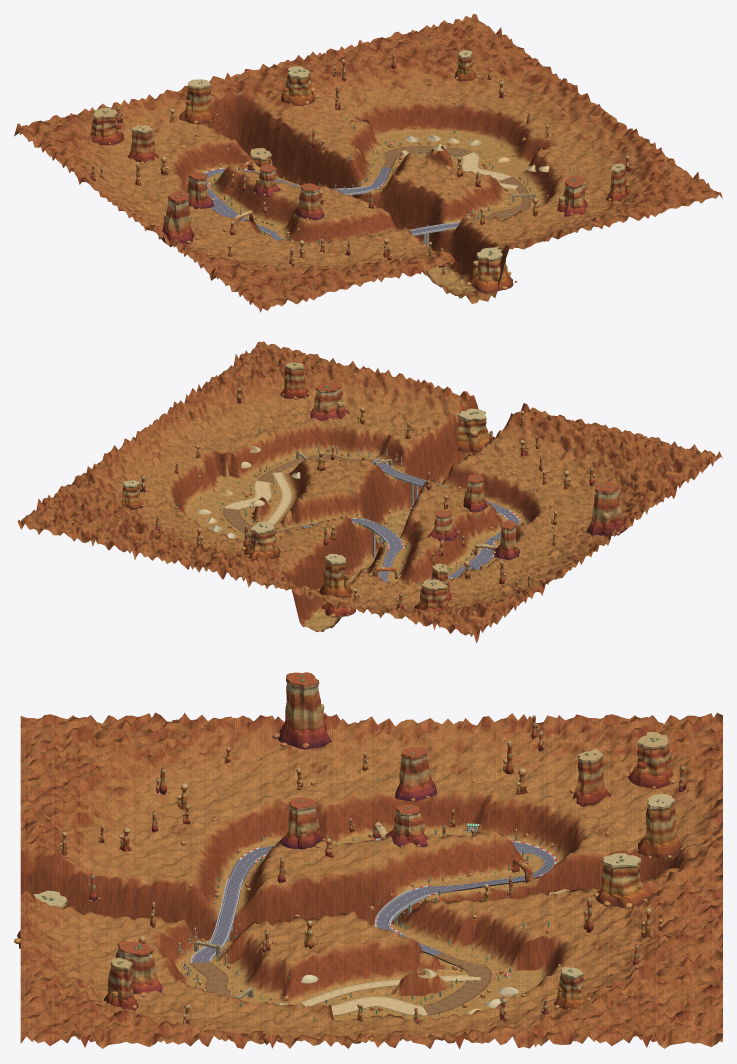
File: canion-solar.glb
3 renders of one model, top to bottom at view 1: azimuth 30°, elevation 25°; view 2: azimuth 150°, elevation 25°; view 3: azimuth 270°, elevation 25°, orthographic. The views are drawn at different scales.
Parts seen in each view (by area): view 1: terrain10, terrain2, terrain4, terrain3, terrain8, terrain9, terrain16, terrain24, terrain1, terrain21, sec11_props, terrain0 (+26 smaller); view 2: terrain22, terrain27, terrain25, terrain16, terrain24, terrain26, terrain15, terrain21, terrain28, terrain4, terrain19, terrain20 (+28 smaller); view 3: terrain6, terrain18, terrain12, terrain7, terrain15, terrain24, terrain25, terrain9, terrain26, terrain19, terrain3, terrain14 (+38 smaller).
Boxes of the visible parts, <box> form: terrain10: <box>405,59,538,149</box>; terrain2: <box>185,64,318,164</box>; terrain4: <box>358,23,489,94</box>; terrain3: <box>272,44,404,114</box>; terrain8: <box>244,114,367,188</box>; terrain9: <box>319,94,446,169</box>; terrain16: <box>460,108,588,183</box>; terrain24: <box>211,263,345,312</box>; terrain1: <box>99,86,226,156</box>; terrain21: <box>418,173,552,230</box>; sec11_props: <box>90,79,272,181</box>; terrain0: <box>14,106,135,167</box>; terrain22: <box>198,392,331,476</box>; terrain27: <box>332,370,466,447</box>; terrain25: <box>503,414,636,483</box>; terrain16: <box>149,436,276,512</box>; terrain24: <box>594,433,722,498</box>; terrain26: <box>417,391,551,484</box>; terrain15: <box>239,463,367,527</box>; terrain21: <box>284,423,417,499</box>; terrain28: <box>247,350,379,423</box>; terrain4: <box>50,494,183,559</box>; terrain19: <box>454,464,587,530</box>; terrain20: <box>368,448,502,533</box>; terrain6: <box>442,713,582,813</box>; terrain18: <box>161,713,301,799</box>; terrain12: <box>301,713,441,814</box>; terrain7: <box>442,796,582,883</box>; terrain15: <box>301,915,441,1005</box>; terrain24: <box>20,712,160,794</box>; terrain25: <box>20,771,160,858</box>; terrain9: <box>442,914,582,1005</box>; terrain26: <box>20,833,160,918</box>; terrain19: <box>161,795,301,882</box>; terrain3: <box>582,891,722,973</box>; terrain14: <box>301,855,441,941</box>.
Bounding box in the file's own units: 650 × 135 × 606.
Materials: 24 (17 with a texture image).
